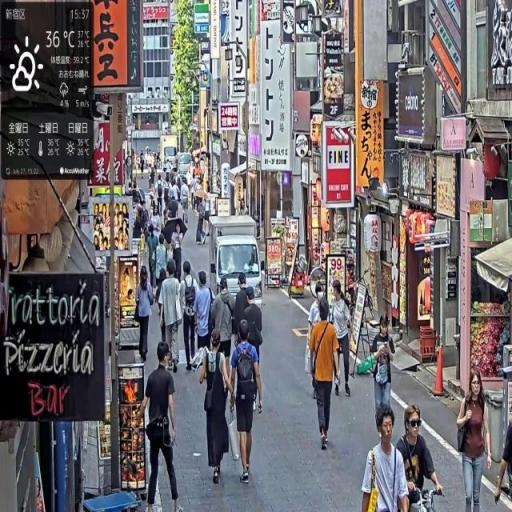person: (138, 340, 182, 512), (229, 321, 265, 486), (197, 329, 234, 486), (456, 365, 494, 512), (394, 404, 445, 512), (361, 407, 412, 512), (308, 301, 341, 455), (369, 314, 396, 427), (331, 280, 355, 400), (160, 262, 183, 374), (211, 278, 236, 373), (181, 261, 200, 373), (193, 271, 214, 368), (135, 268, 156, 363), (171, 220, 186, 284)
